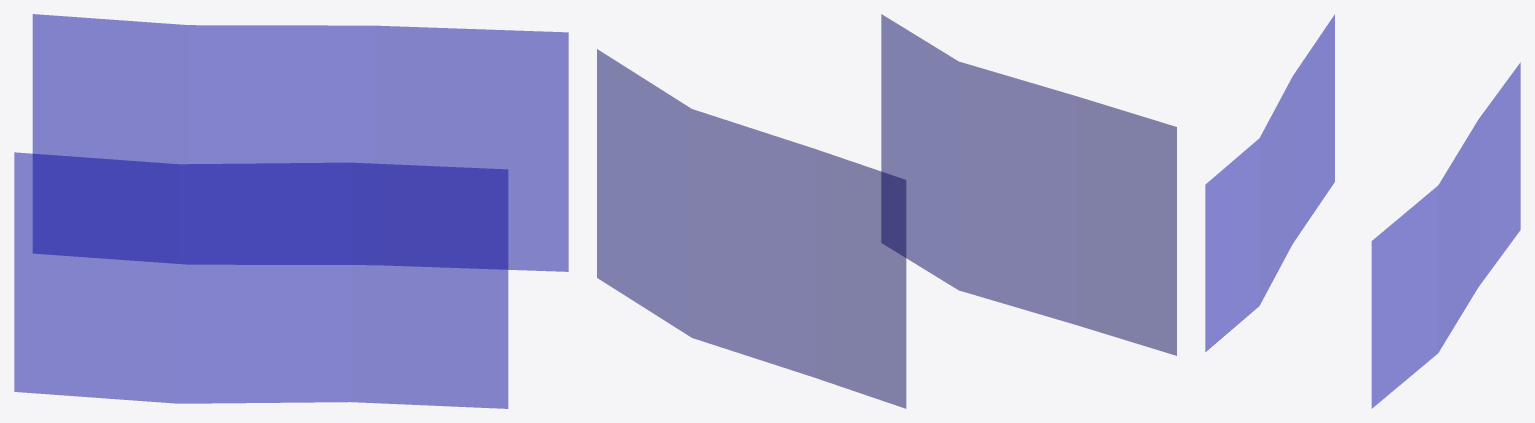
File: track_military_coll_wall_23.fbx
3 renders of one model, left to right at view 1: azimuth 30°, elevation 25°; view 2: azimuth 150°, elevation 25°; view 3: azimuth 270°, elevation 25°, orthographic. The views are drawn at different scales.
Parts seen in each view (by area): view 1: track_military_coll_wall_23; view 2: track_military_coll_wall_23; view 3: track_military_coll_wall_23.
Boxes of the visible parts, x1=… form: track_military_coll_wall_23: x1=14, y1=14, x2=568, y2=408; track_military_coll_wall_23: x1=597, y1=14, x2=1176, y2=408; track_military_coll_wall_23: x1=1205, y1=14, x2=1520, y2=408.
Size of the model in its own units: 80.78 by 38.79 by 54.2.
